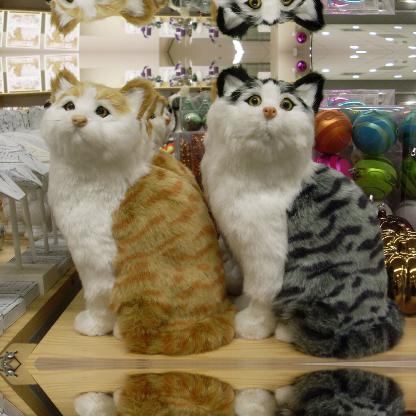Cat: (199, 63, 404, 361), (44, 66, 238, 356), (145, 96, 203, 190)
